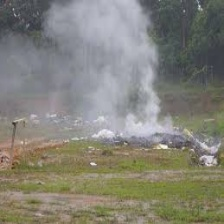smoke: (2, 1, 164, 135)
